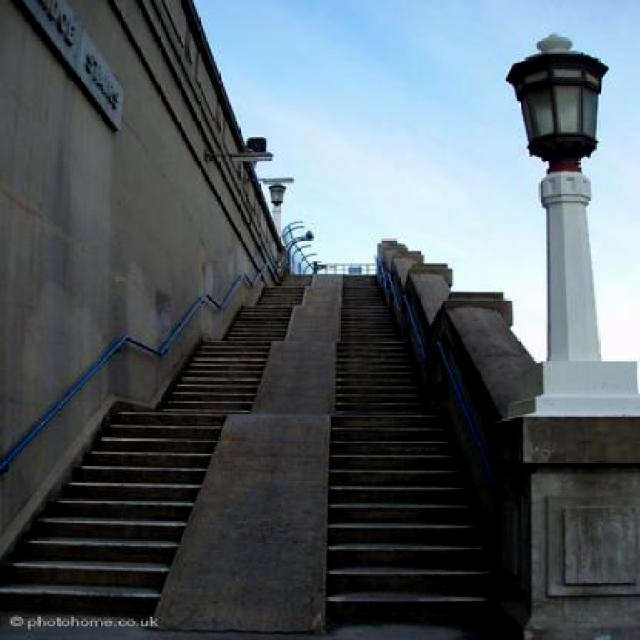stair: (320, 277, 505, 640), (0, 395, 229, 606)
